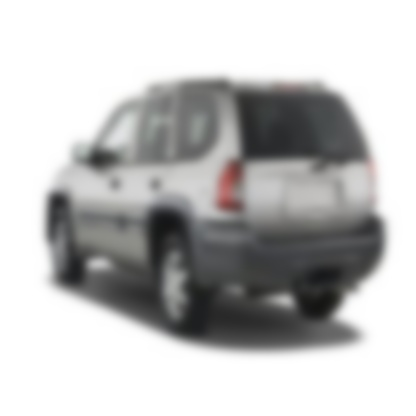Vehicle: (44, 89, 397, 341)
